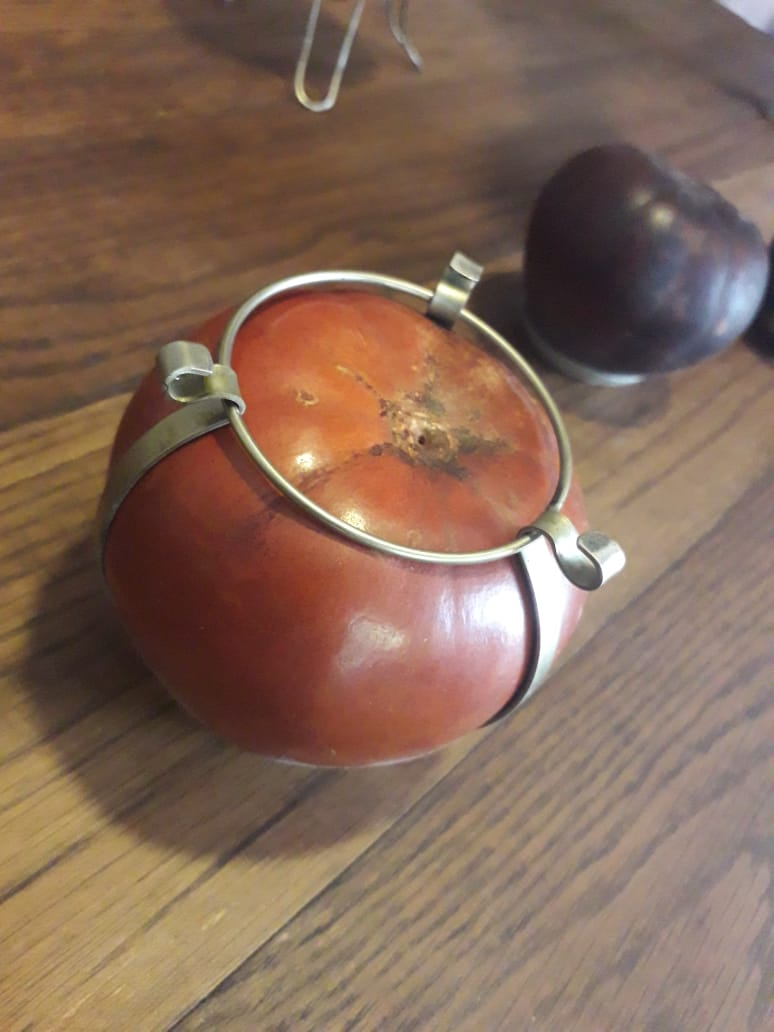calabaza: (91, 250, 627, 768)
mate: (93, 252, 629, 770)
